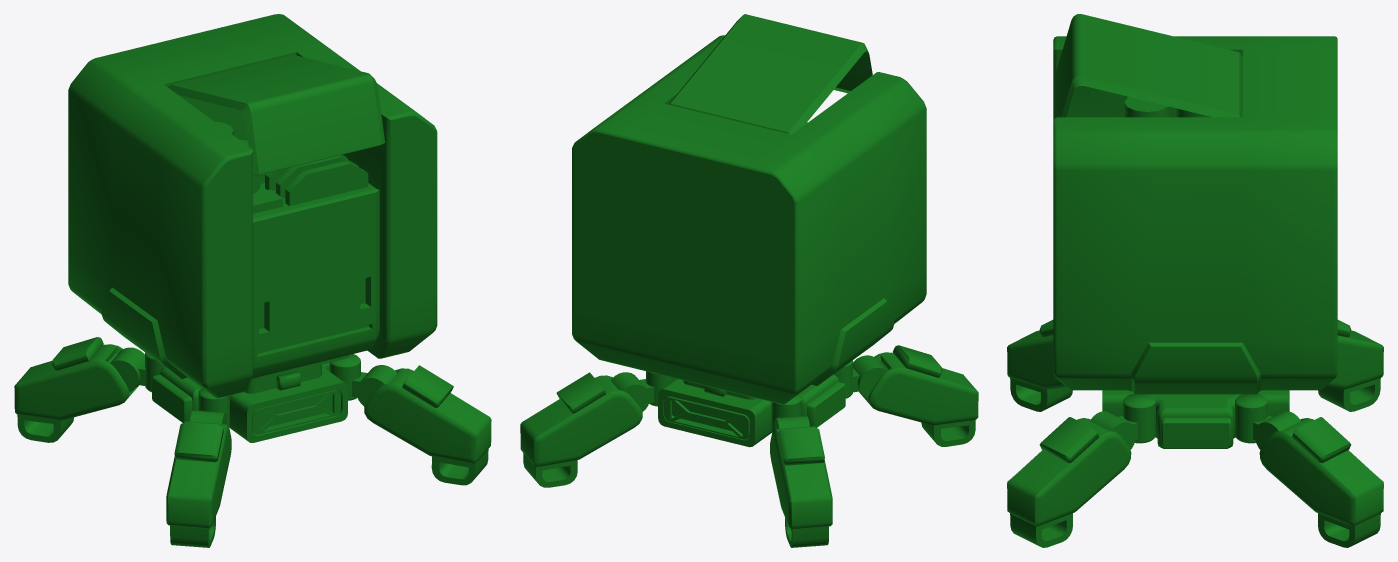
The model's file is Bottington2.fbx.
3 renders of one model, left to right at view 1: azimuth 30°, elevation 25°; view 2: azimuth 150°, elevation 25°; view 3: azimuth 270°, elevation 25°, orthographic. The views are drawn at different scales.
Visible parts, largest first — view 1: Bottington2; view 2: Bottington2; view 3: Bottington2.
Boxes of the visible parts, <box> form: Bottington2: <box>14,14,491,547</box>; Bottington2: <box>520,14,978,547</box>; Bottington2: <box>1007,14,1383,547</box>.
Bounding box in the file's own units: 275 × 330 × 265.
